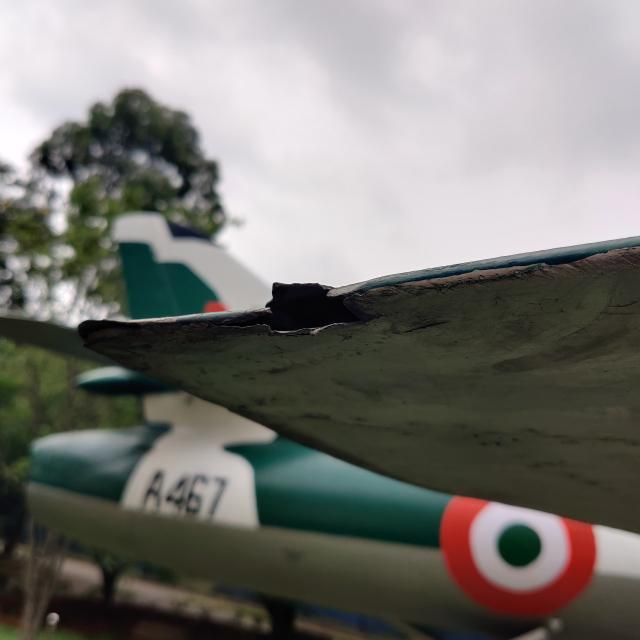Crack: (267, 283, 362, 332)
